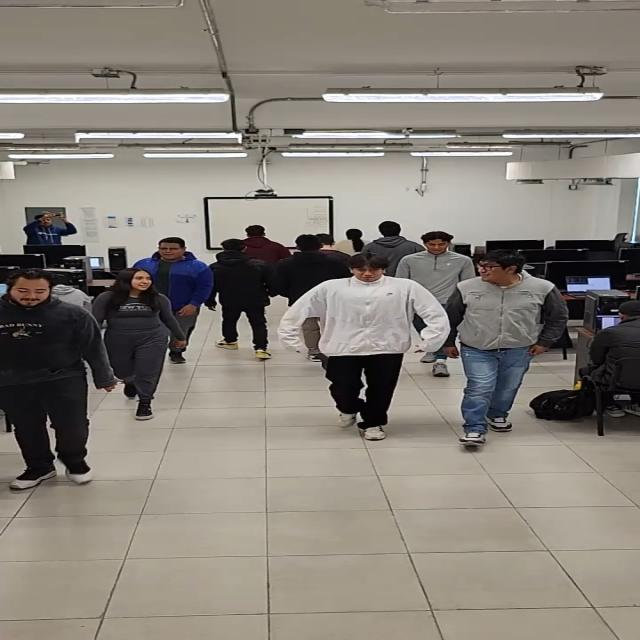Persona: (7, 269, 94, 483), (320, 256, 410, 452), (470, 252, 541, 446), (99, 268, 165, 423), (219, 236, 268, 360), (405, 228, 473, 288), (147, 242, 202, 302), (290, 237, 336, 289), (244, 226, 290, 276), (369, 217, 421, 256), (27, 211, 71, 247), (339, 230, 368, 253)
